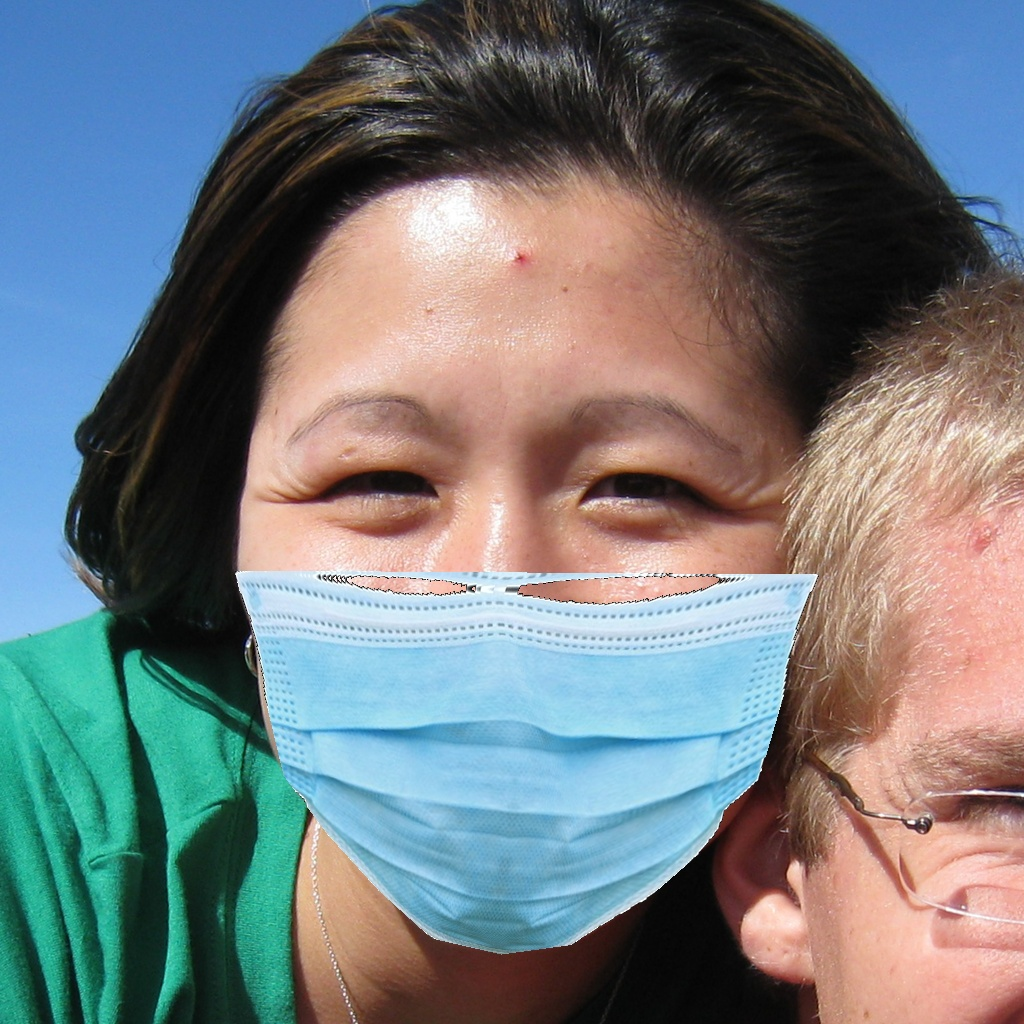Mask: (231, 327, 845, 958)
